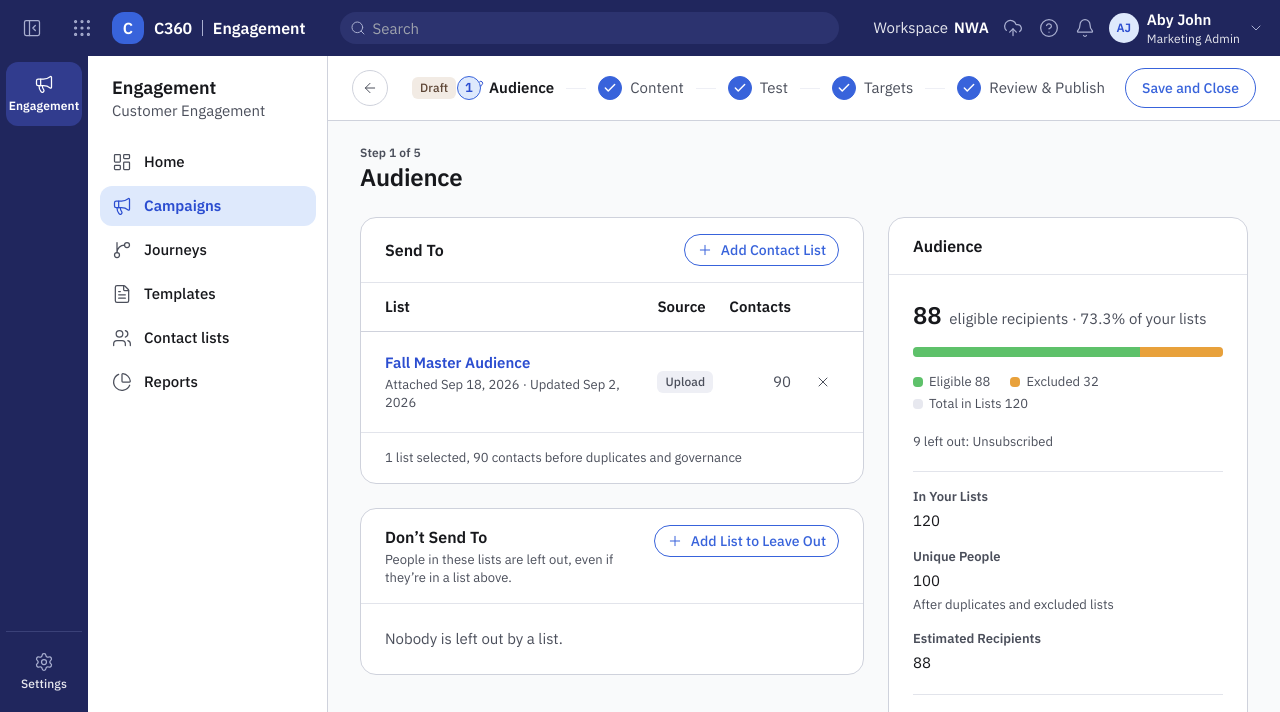
Test: Send To holds the attached lists only: name (a new tab), how it was attached, source, contacts, updated, and remove
Check: the heading "Send To" is shown, box [385, 238, 444, 262]
Check: the column headings read "List", "Source", "Contacts", "", in this order, box [361, 283, 649, 331]; [649, 283, 721, 331]; [721, 283, 799, 331]; [799, 283, 863, 331]
Click the button named "Remove Fall Master Audience" at (823, 382), box [807, 366, 839, 398]
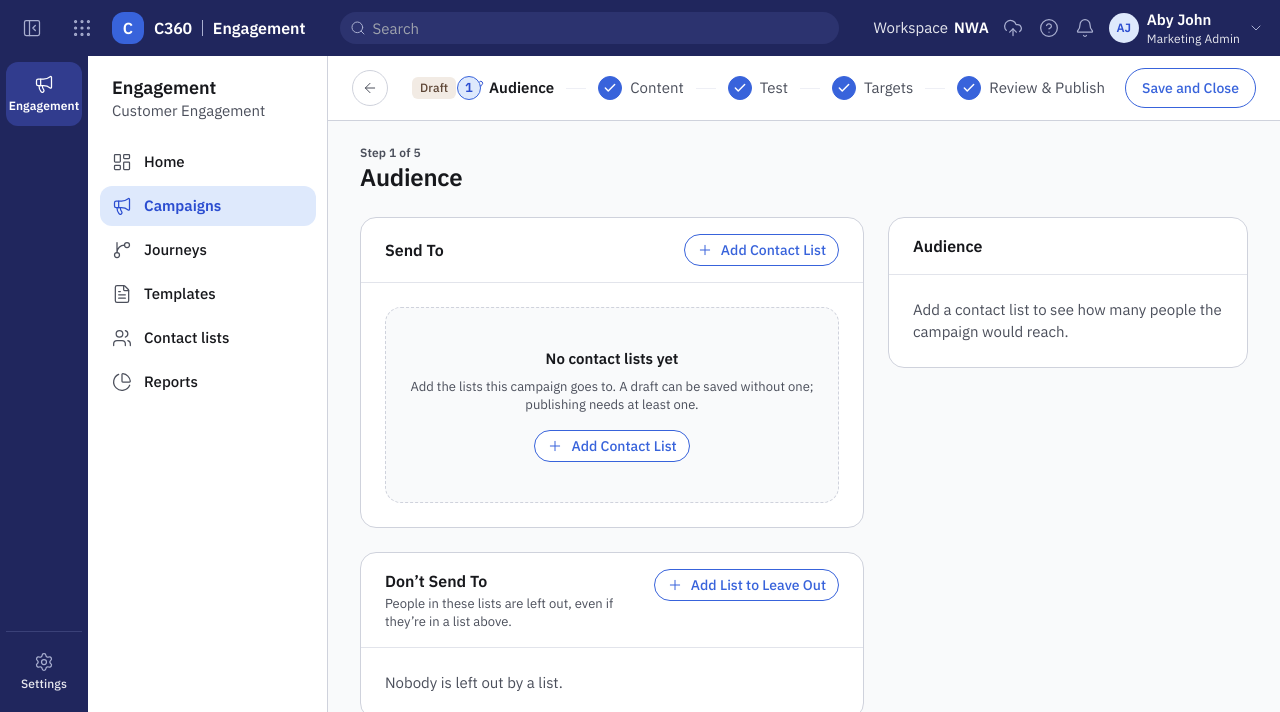
Check: the text "No contact lists yet" is shown, box [546, 348, 678, 370]
Check: the text "A draft can be saved without one; publishing needs at least one." is shown, box [525, 378, 814, 413]
